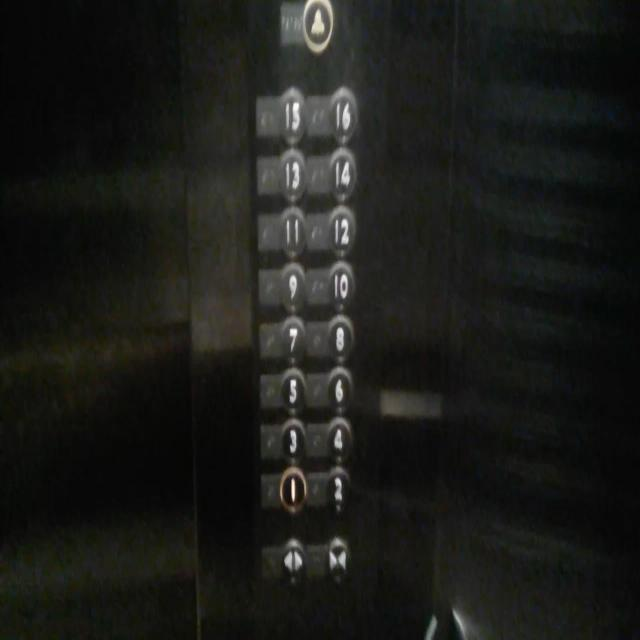1: (258, 466, 306, 519)
10: (306, 261, 356, 314)
11: (255, 206, 307, 260)
12: (306, 206, 358, 260)
13: (255, 146, 307, 204)
14: (306, 146, 358, 203)
15: (254, 85, 308, 145)
16: (306, 84, 360, 144)
2: (306, 465, 354, 519)
3: (258, 418, 306, 466)
4: (307, 416, 353, 465)
5: (257, 366, 306, 419)
6: (307, 366, 355, 415)
7: (258, 316, 306, 368)
8: (304, 314, 356, 364)
9: (257, 262, 307, 316)
alarm: (278, 0, 336, 56)
close: (306, 536, 352, 588)
open: (262, 536, 308, 588)
